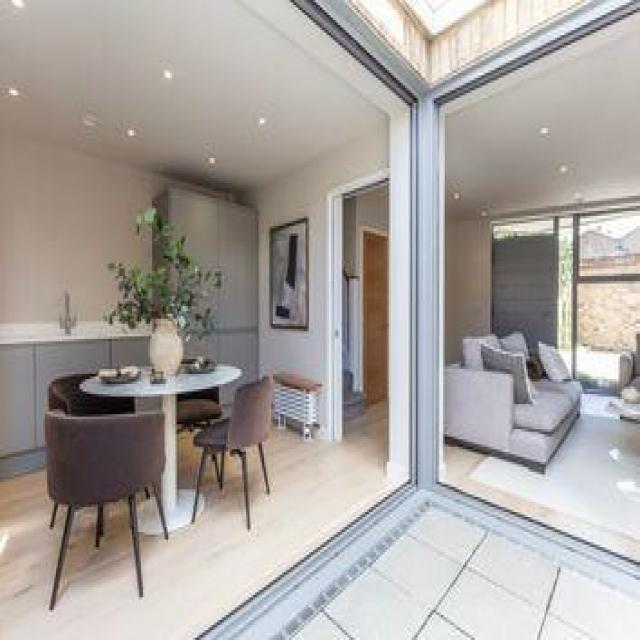Wall: (0, 403, 392, 639), (0, 0, 381, 192), (203, 486, 640, 638), (446, 13, 640, 218), (259, 118, 388, 383), (445, 394, 640, 560), (0, 134, 165, 322), (350, 0, 585, 86), (445, 219, 491, 362), (344, 186, 388, 277), (405, 1, 485, 36), (178, 430, 201, 487)
